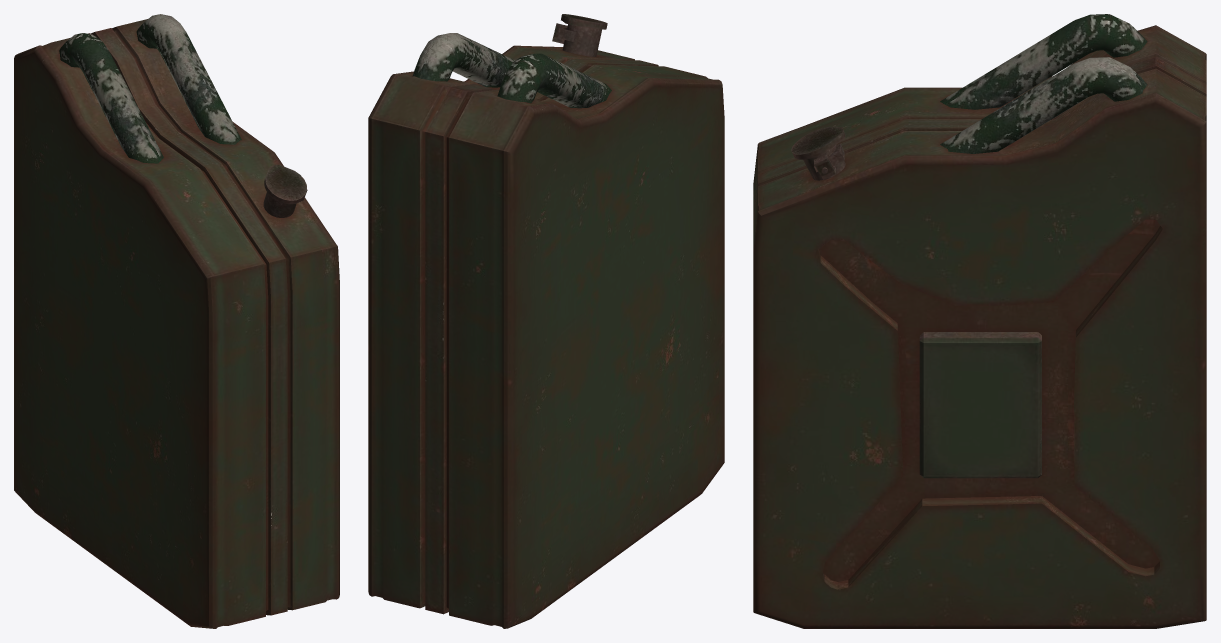
3 renders of one model, left to right at view 1: azimuth 30°, elevation 25°; view 2: azimuth 150°, elevation 25°; view 3: azimuth 270°, elevation 25°, orthographic. The views are drawn at different scales.
Parts seen in each view (by area): view 1: polySurface1, sweep7, sweep6, pCylinder12, pCylinder14; view 2: polySurface1, sweep7, sweep6, pCylinder14; view 3: polySurface1, pCube20, sweep6, sweep7, pCylinder12.
Part boxes in pixels (x1,y1,x2,y2): polySurface1: [14, 19, 339, 628]; sweep7: [59, 33, 163, 163]; sweep6: [136, 14, 241, 144]; pCylinder12: [264, 164, 306, 204]; pCylinder14: [263, 192, 296, 217]; polySurface1: [368, 45, 724, 628]; sweep7: [497, 53, 611, 108]; sweep6: [412, 33, 514, 87]; pCylinder14: [562, 24, 602, 56]; polySurface1: [753, 25, 1206, 628]; pCube20: [919, 332, 1041, 478]; sweep6: [940, 57, 1147, 153]; sweep7: [940, 14, 1147, 109]; pCylinder12: [791, 126, 845, 159].
Size of the model in its own units: 2.69 by 9.52 by 6.99.
Materials: 1 (1 with a texture image).
